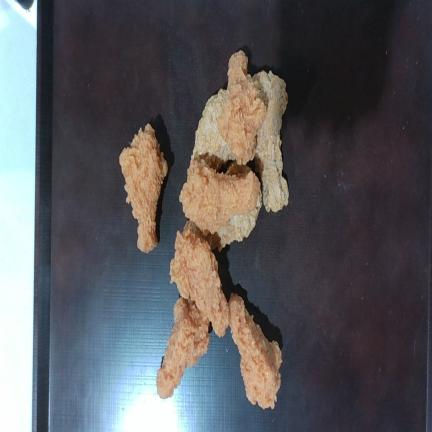chicken: (170, 226, 228, 336), (229, 293, 282, 409), (119, 124, 167, 252), (179, 160, 260, 233), (218, 50, 266, 164), (252, 71, 289, 212), (157, 298, 209, 398)
